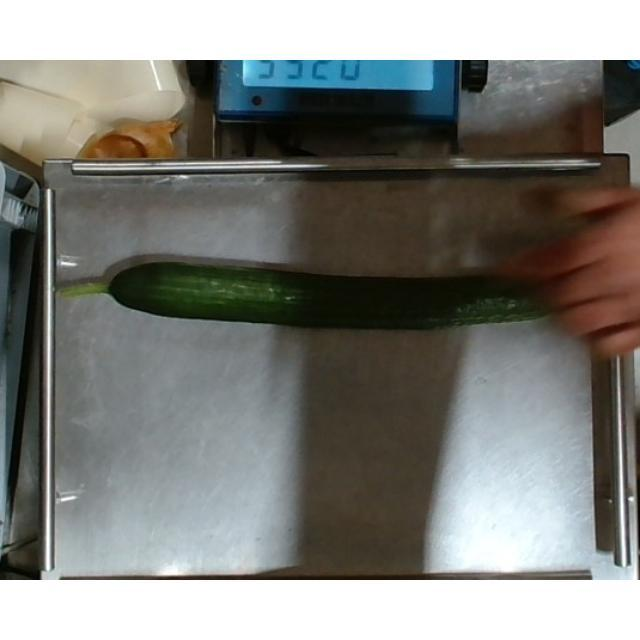cucumber: (49, 252, 604, 328)
